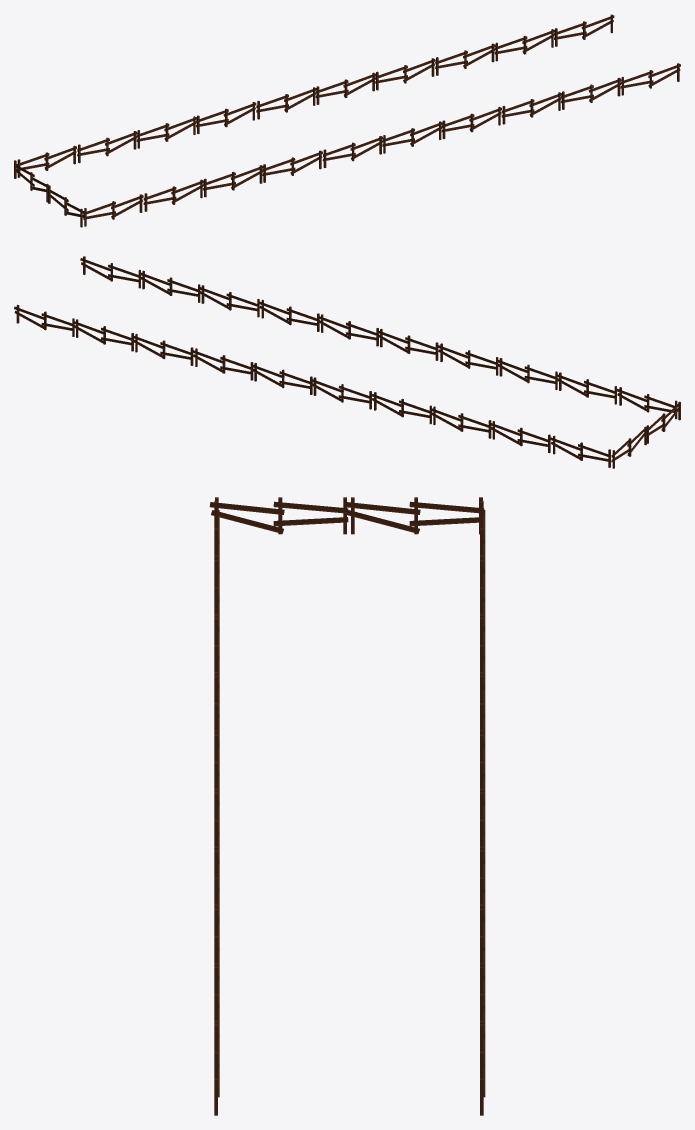
The model's file is fenceStructure.glb.
The picture shows the model from 3 angles, top to bottom: view 1: azimuth 30°, elevation 25°; view 2: azimuth 150°, elevation 25°; view 3: azimuth 270°, elevation 25°; orthographic projection. The views are drawn at different scales.
Parts seen in each view (by area): view 1: fence1.011; view 2: fence1.011; view 3: fence1.011.
Boxes of the visible parts, <box> form: fence1.011: <box>14,14,680,227</box>; fence1.011: <box>14,256,680,468</box>; fence1.011: <box>209,497,485,1115</box>.
Bounding box in the file's own units: 42.96 × 1.22 × 8.55.
